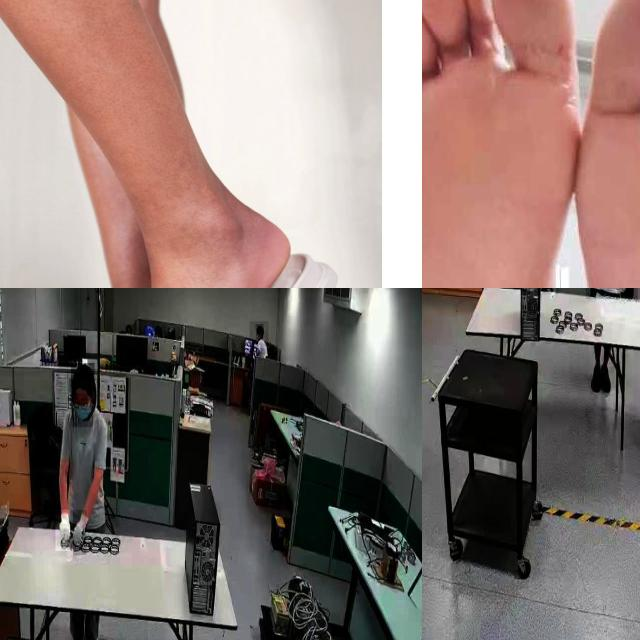Barefoots: (422, 0, 577, 288), (582, 0, 640, 288)
Sandals: (93, 220, 338, 288)
face_mask: (73, 393, 93, 427)
glasses: (71, 398, 89, 414)
hand_glove: (73, 510, 87, 556), (56, 509, 70, 552)
head_nohelmet: (71, 363, 95, 387), (256, 324, 264, 331)
person: (57, 349, 120, 550), (249, 321, 269, 355)
shoes: (597, 363, 612, 396), (588, 361, 602, 395)
